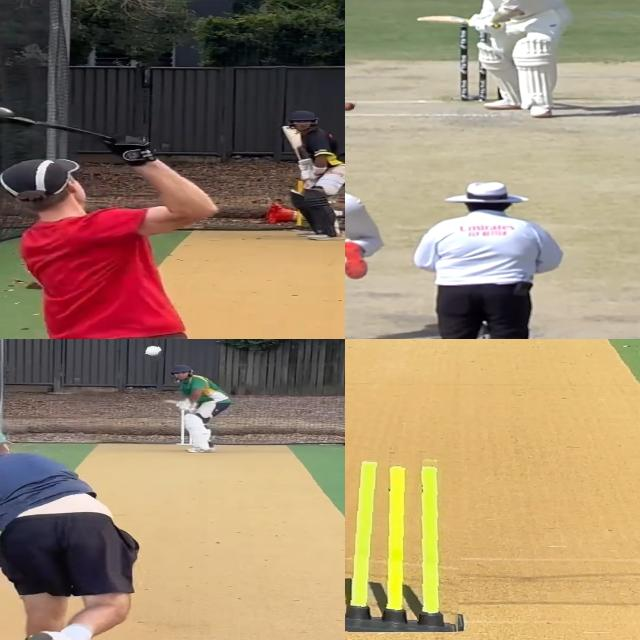Cricket ball: (141, 345, 166, 359), (345, 102, 357, 113)
Stumps: (345, 452, 465, 632)
